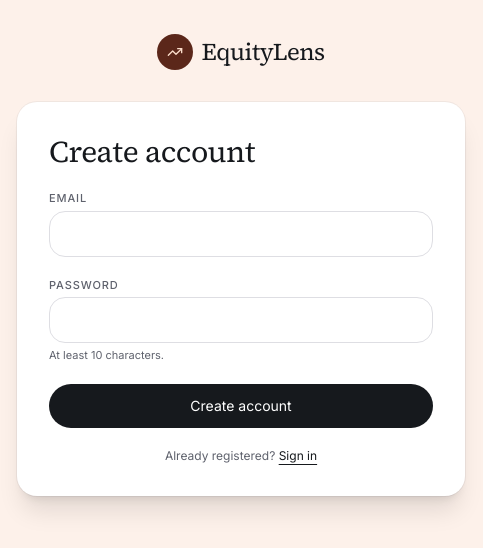
Test: auth form behaviour › a non-ASCII email is rejected client-side with a clear message and no request
Type "josé@example.com" into the field labelled "Email" at (241, 234), box [49,211,433,257]
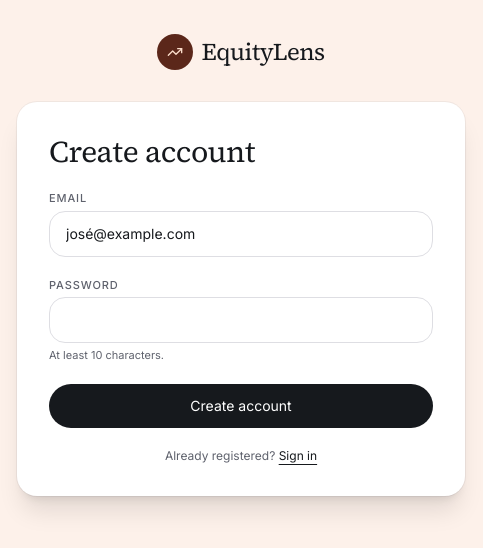
Type "long-enough-pw" into the password field labelled "Password" at (241, 320), box [49,297,433,343]
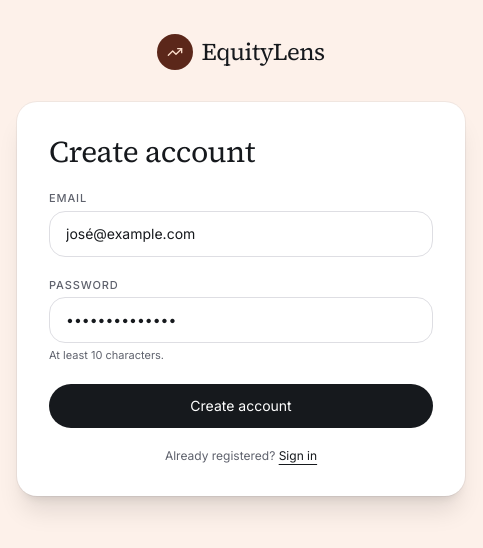
Click the button "Create account" at (241, 406), box [49,384,433,428]
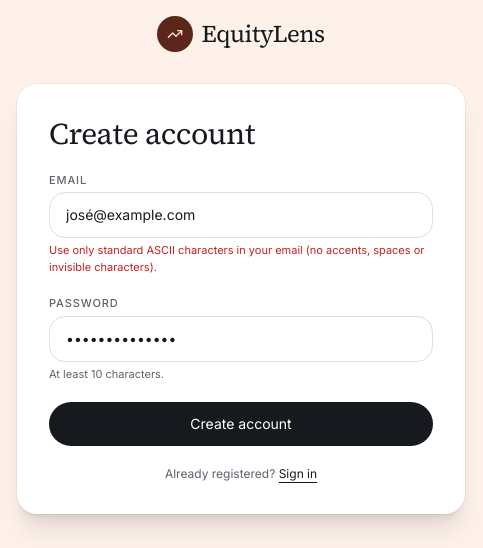
Expected: the text "ASCII" is shown, [49,243,424,274]
